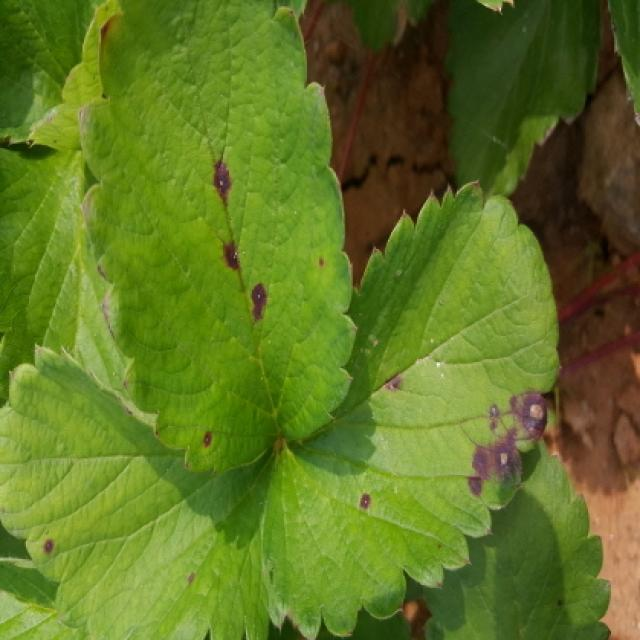Leaf Spot: (261, 179, 564, 638), (77, 0, 361, 475), (0, 340, 277, 638)
